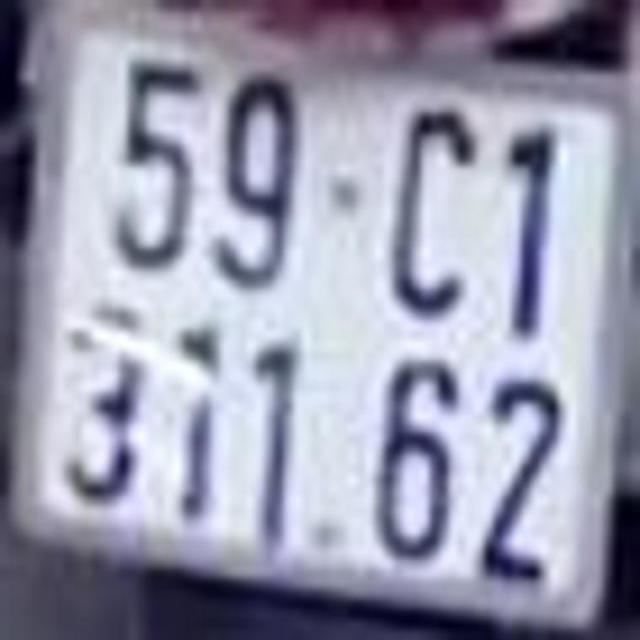1: (248, 332, 302, 551), (172, 316, 226, 519), (510, 136, 552, 339)
2: (477, 376, 558, 587)
3: (66, 306, 145, 496)
5: (120, 57, 190, 266)
6: (380, 350, 456, 552)
9: (219, 76, 293, 284)
C: (397, 109, 475, 320)
